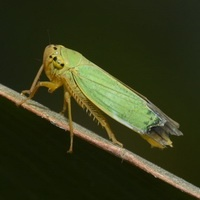insect: (18, 44, 182, 152)
